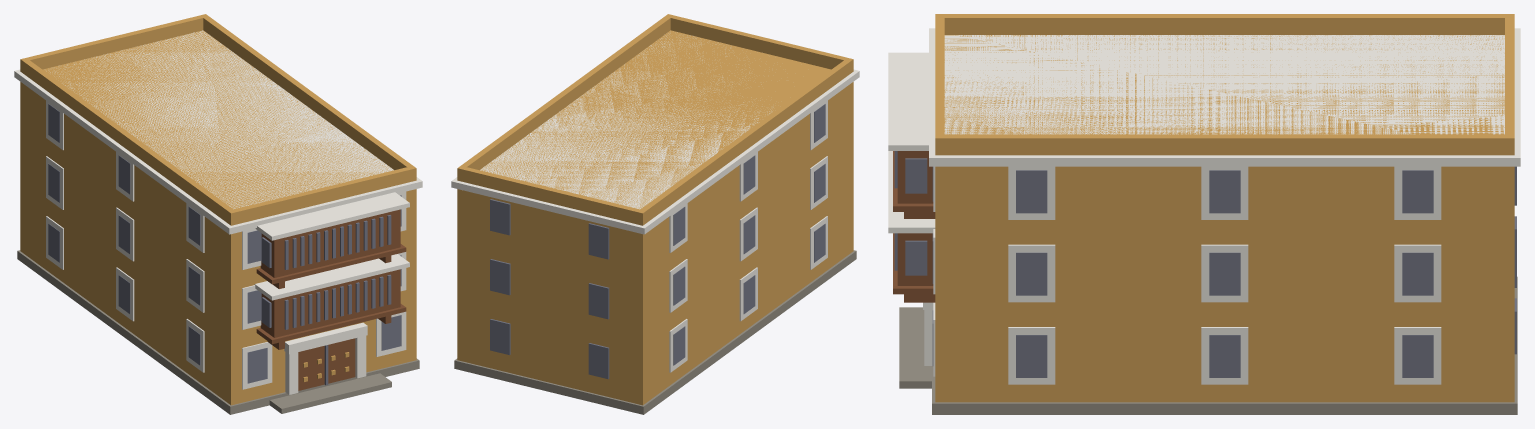
The model's file is house-1x2-3f-quincha-a.glb.
3 renders of one model, left to right at view 1: azimuth 30°, elevation 25°; view 2: azimuth 150°, elevation 25°; view 3: azimuth 270°, elevation 25°, orthographic. The views are drawn at different scales.
Parts seen in each view (by area): view 1: house-1x2-3f-quincha-a; view 2: house-1x2-3f-quincha-a; view 3: house-1x2-3f-quincha-a.
Part boxes in pixels (<box>): house-1x2-3f-quincha-a: <box>14,14,422,414</box>; house-1x2-3f-quincha-a: <box>451,14,859,414</box>; house-1x2-3f-quincha-a: <box>888,14,1520,414</box>.
Size of the model in its own units: 0.98 by 0.97 by 2.02.
1 material, 1 textured.
